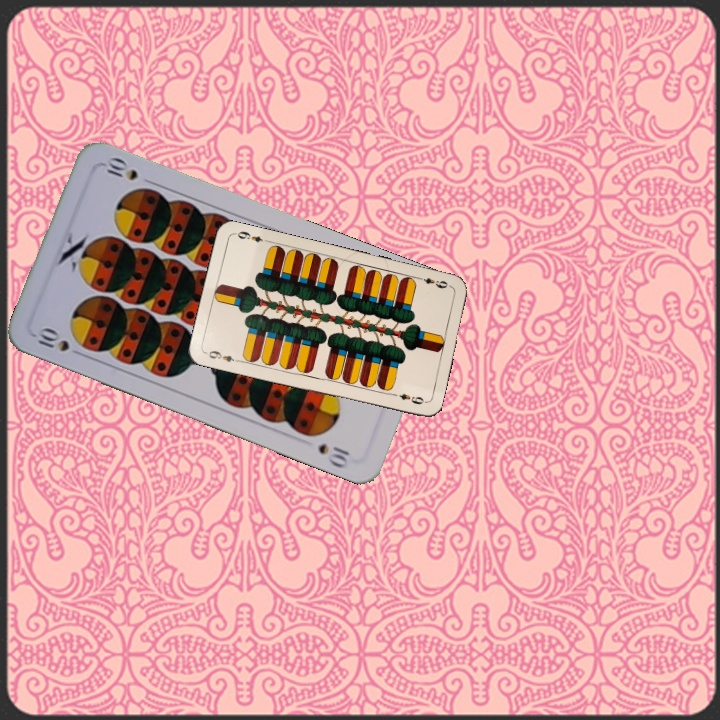E9: (202, 346, 242, 365), (414, 273, 450, 291)
S10: (30, 324, 72, 355)
